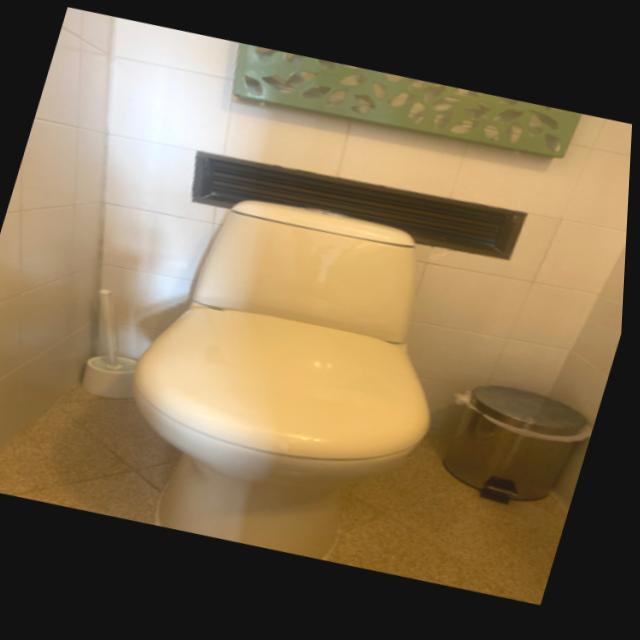toilet: (92, 172, 490, 586)
